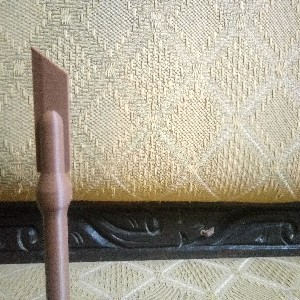cutter: (28, 45, 74, 300)
